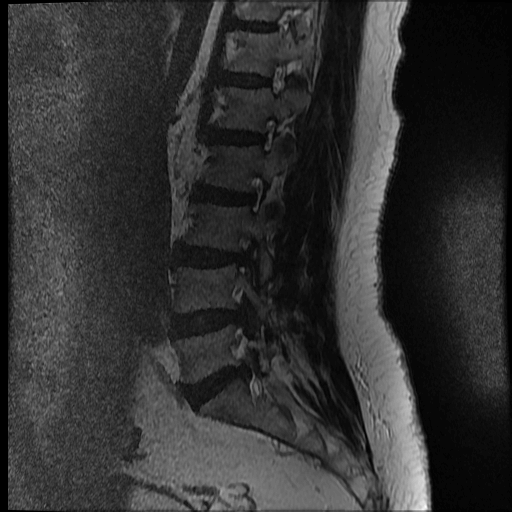RFS0: (234, 168, 270, 218), (248, 109, 284, 158)
